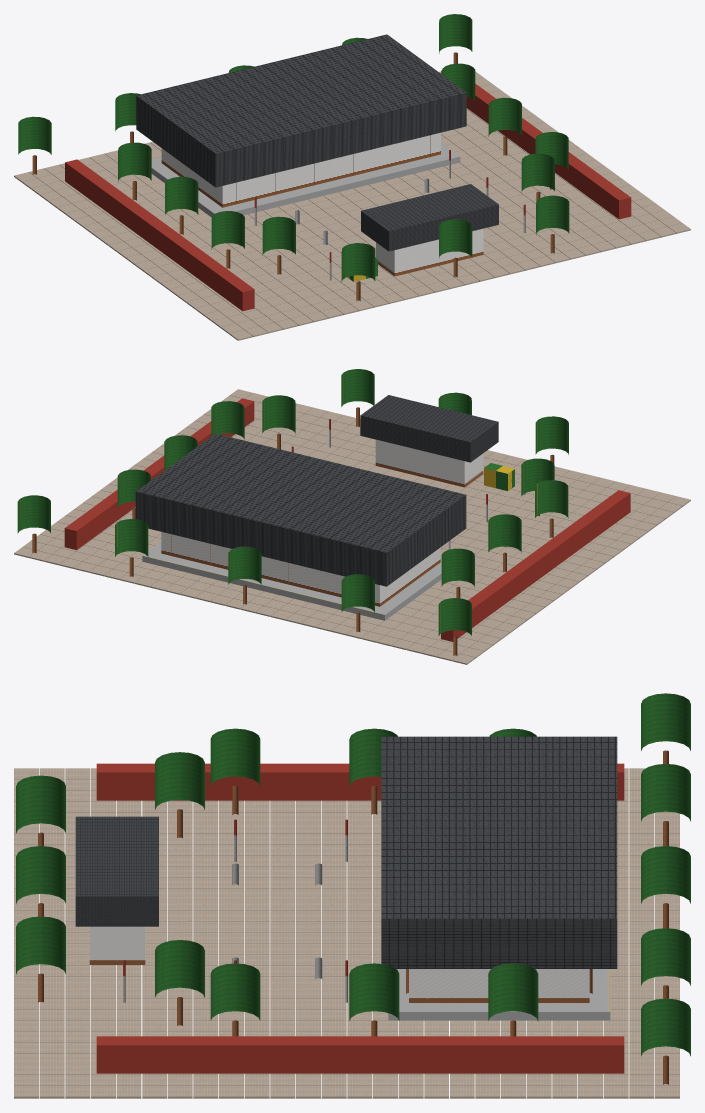
3 views of the same model, one above another, from view 1: azimuth 30°, elevation 25°; view 2: azimuth 150°, elevation 25°; view 3: azimuth 270°, elevation 25° (orthographic). The views are drawn at different scales.
Visible parts, largest first — view 1: 28185_B42_Woninjae_Historic_Cultural_Park; view 2: 28185_B42_Woninjae_Historic_Cultural_Park; view 3: 28185_B42_Woninjae_Historic_Cultural_Park.
Boxes of the visible parts, x1,y1,x2,y2 form: 28185_B42_Woninjae_Historic_Cultural_Park: (14, 14, 690, 340); 28185_B42_Woninjae_Historic_Cultural_Park: (14, 369, 690, 664); 28185_B42_Woninjae_Historic_Cultural_Park: (14, 693, 690, 1098).
Bounding box in the file's own units: 55.95 × 8.5 × 48.75.
1 material, 1 textured.
